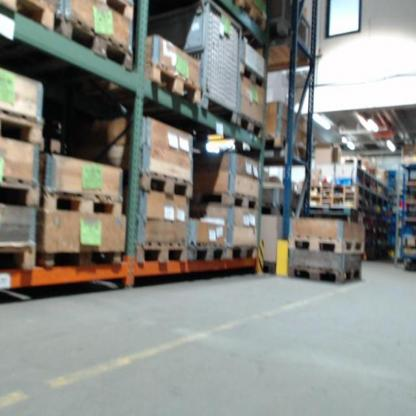pallet: (58, 15, 133, 72), (41, 188, 124, 217), (144, 63, 201, 105), (0, 108, 45, 147), (0, 0, 57, 30), (290, 233, 365, 255), (42, 248, 122, 268), (138, 171, 194, 198), (188, 242, 258, 263), (290, 265, 363, 285), (194, 191, 260, 213), (0, 175, 41, 206), (136, 242, 187, 265), (0, 245, 36, 274), (237, 0, 267, 31), (235, 113, 265, 138), (240, 62, 266, 89), (101, 0, 134, 20)
stillage: (137, 5, 245, 133)
